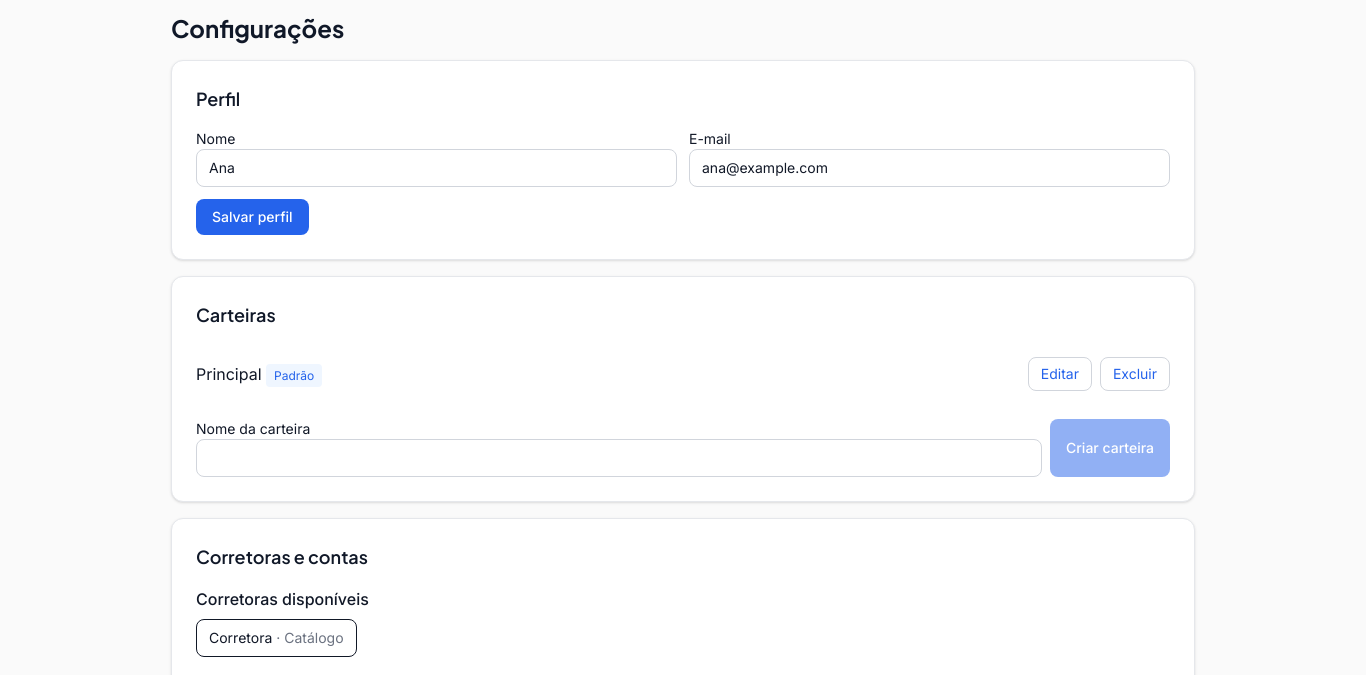
it: settings › retries a failed portfolio mutation without displaying success from a previous action
Expected: the button "Criar carteira" is shown, [1050, 419, 1170, 477]
Type "Boa" into the field labelled "Nome da carteira".
click(619, 458); type("Boa")  # box [196, 439, 1042, 477]
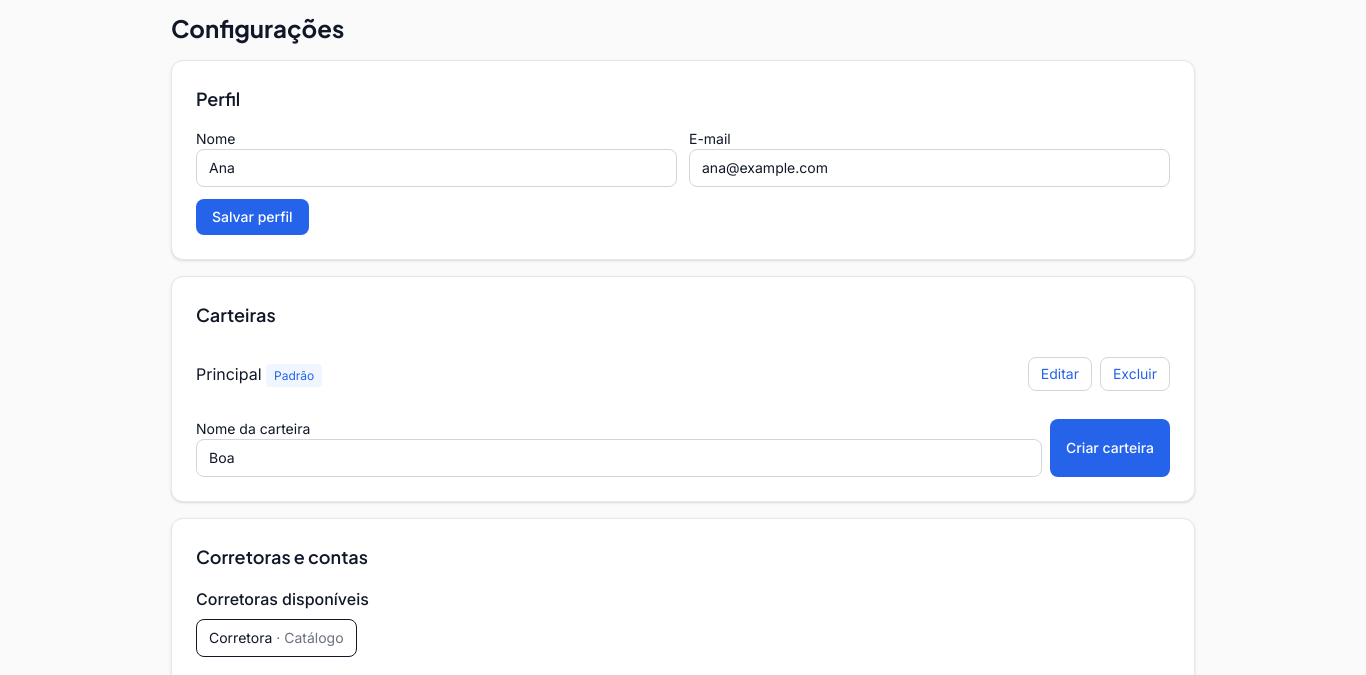
Click the button "Criar carteira".
click(1110, 448)  # box [1050, 419, 1170, 477]
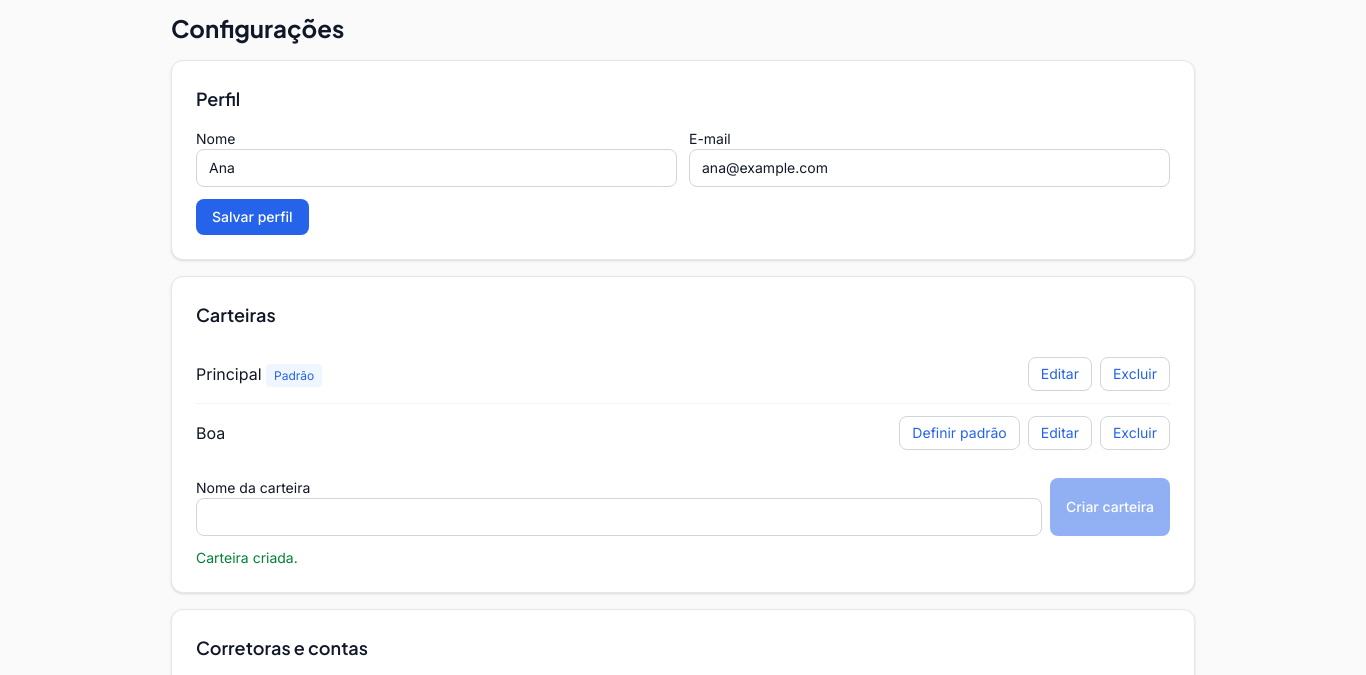
Expected: the text "Carteira criada." is shown, [196, 549, 298, 566]
Type "Falha" into the field labelled "Nome da carteira".
click(619, 517); type("Falha")  # box [196, 498, 1042, 536]
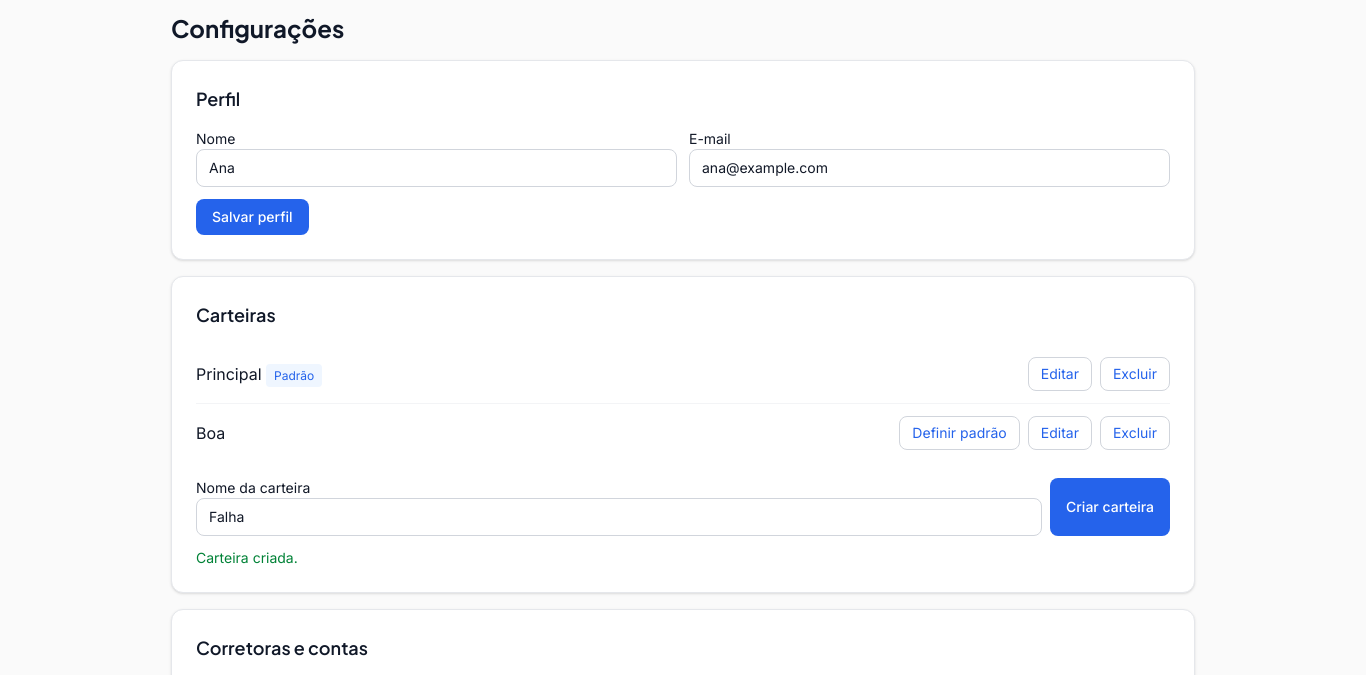
Click the button "Criar carteira".
click(1110, 507)  # box [1050, 478, 1170, 536]
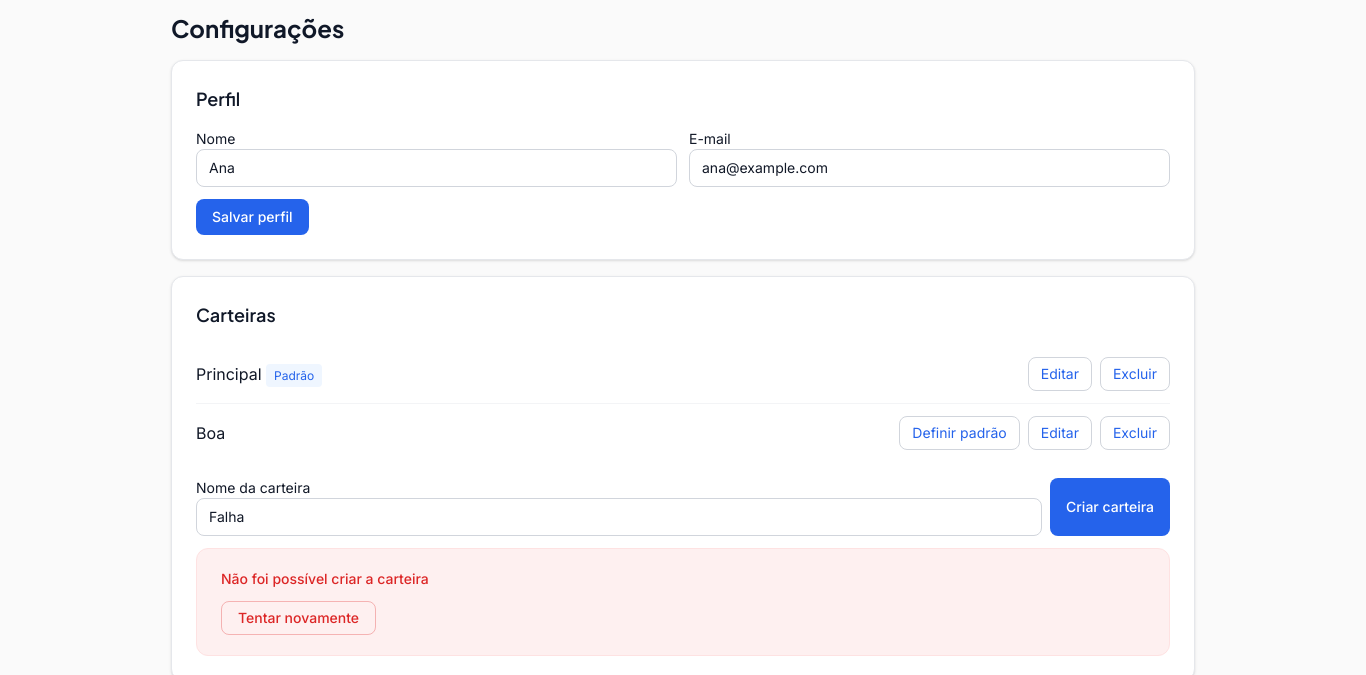
Expected: the text "Não foi possível criar a carteira" is shown, [221, 570, 429, 587]
Expected: the text "Carteira criada." is gone
Replace the text in the field labelled "Nome da carteira" with "Recuperada" at (619, 517), box [196, 498, 1042, 536]
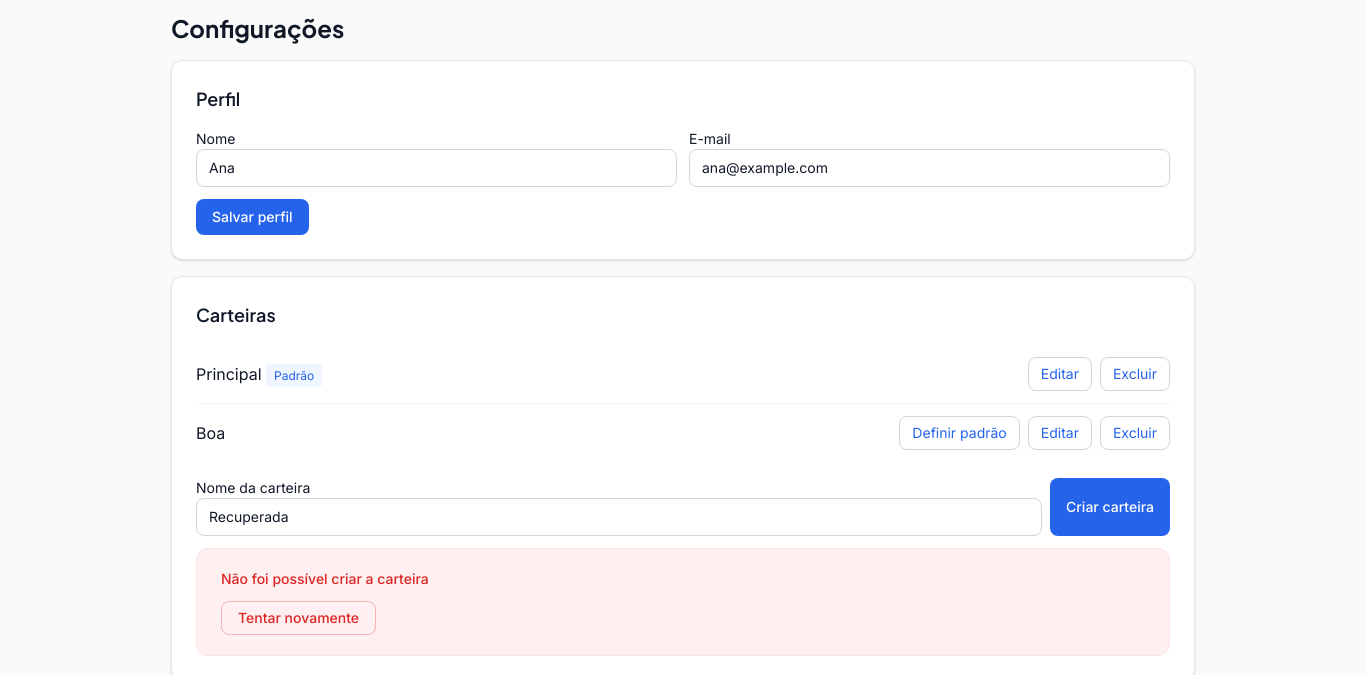
Click the button "Tentar novamente".
click(299, 618)  # box [221, 601, 376, 635]
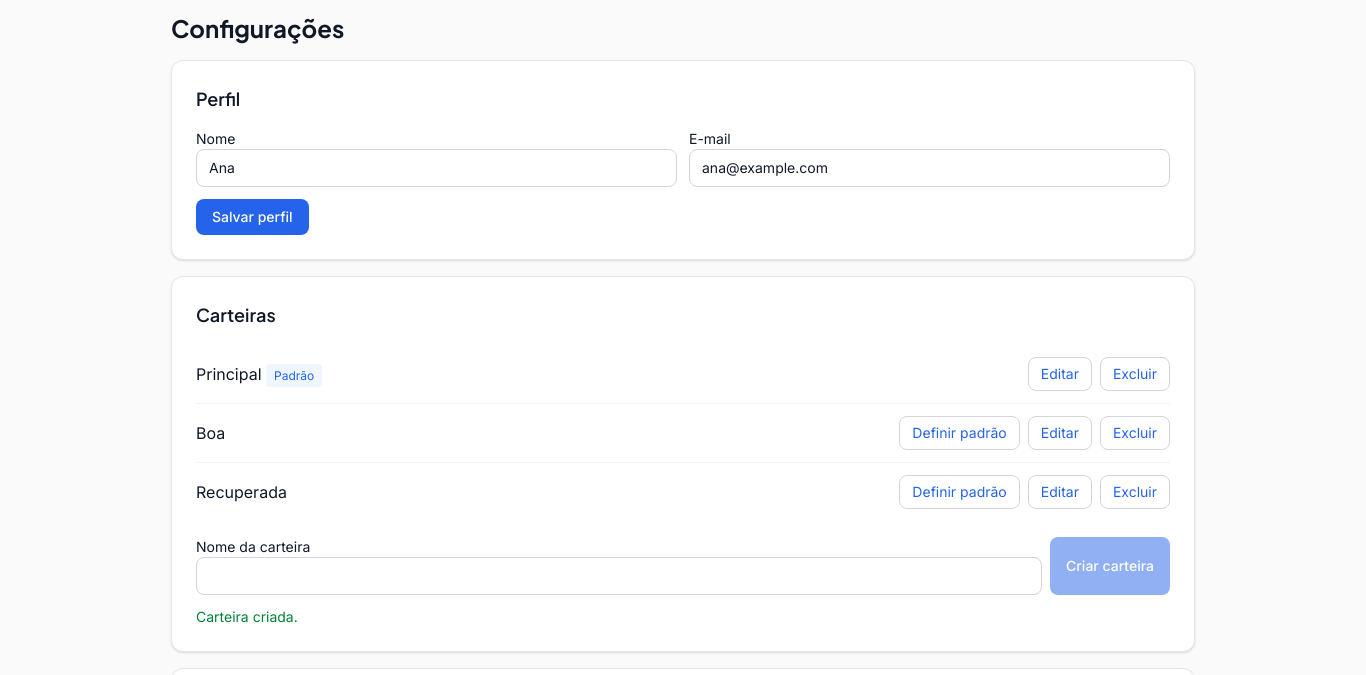
Expected: the text "Recuperada" is shown, [196, 480, 287, 504]
